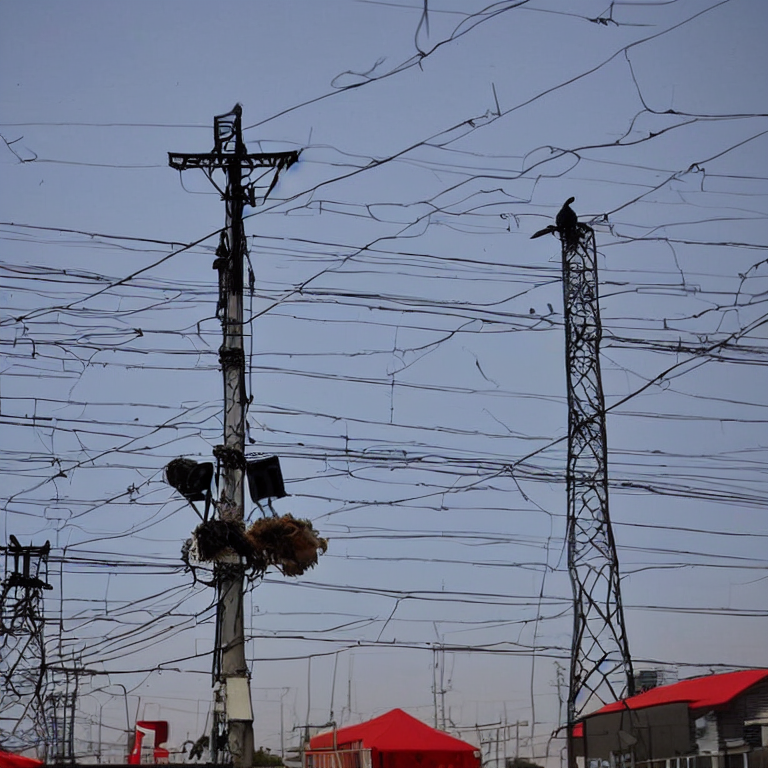nest: (249, 516, 321, 569)
